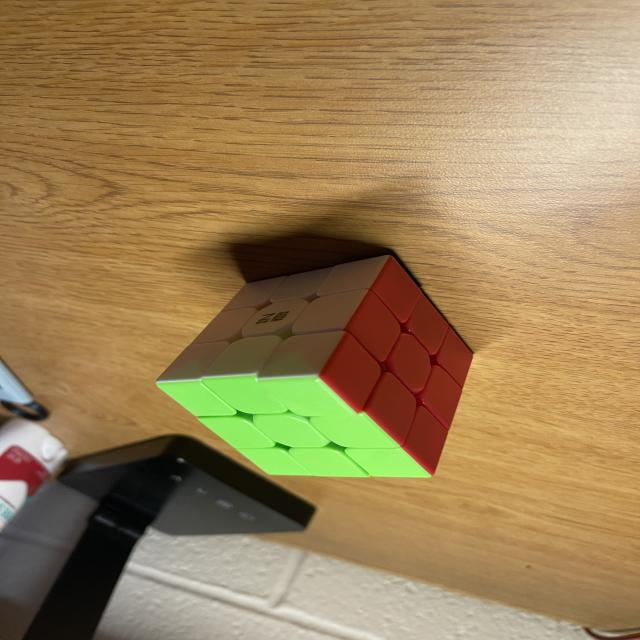Rubiks Cube: (154, 255, 474, 477)
